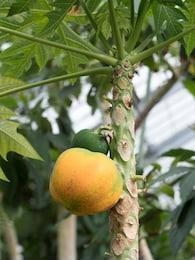papaya: (50, 146, 123, 218)
